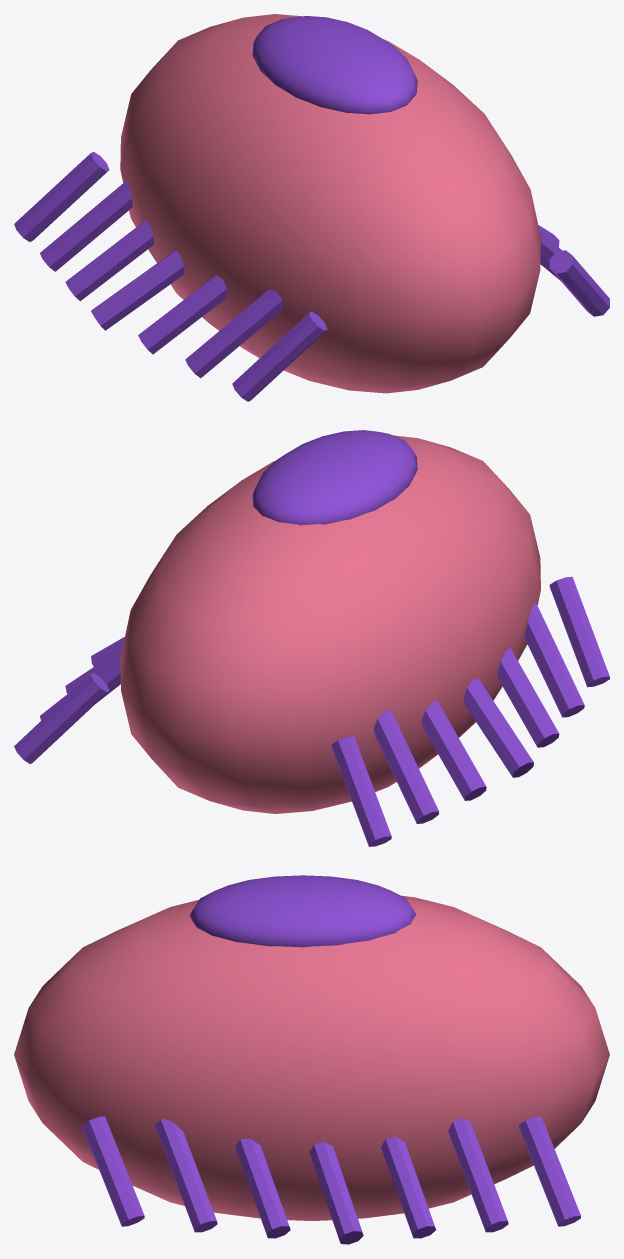
The model's file is enemy-paramecium.glb.
3 views of the same model, one above another, from view 1: azimuth 30°, elevation 25°; view 2: azimuth 150°, elevation 25°; view 3: azimuth 270°, elevation 25° (orthographic).
Parts seen in each view (by area): view 1: enemy-paramecium; view 2: enemy-paramecium; view 3: enemy-paramecium.
Boxes of the visible parts, <box> form: enemy-paramecium: <box>14,14,609,401</box>; enemy-paramecium: <box>14,430,609,846</box>; enemy-paramecium: <box>14,875,609,1244</box>.
Size of the model in its own units: 0.5789 by 0.4 by 0.68.
